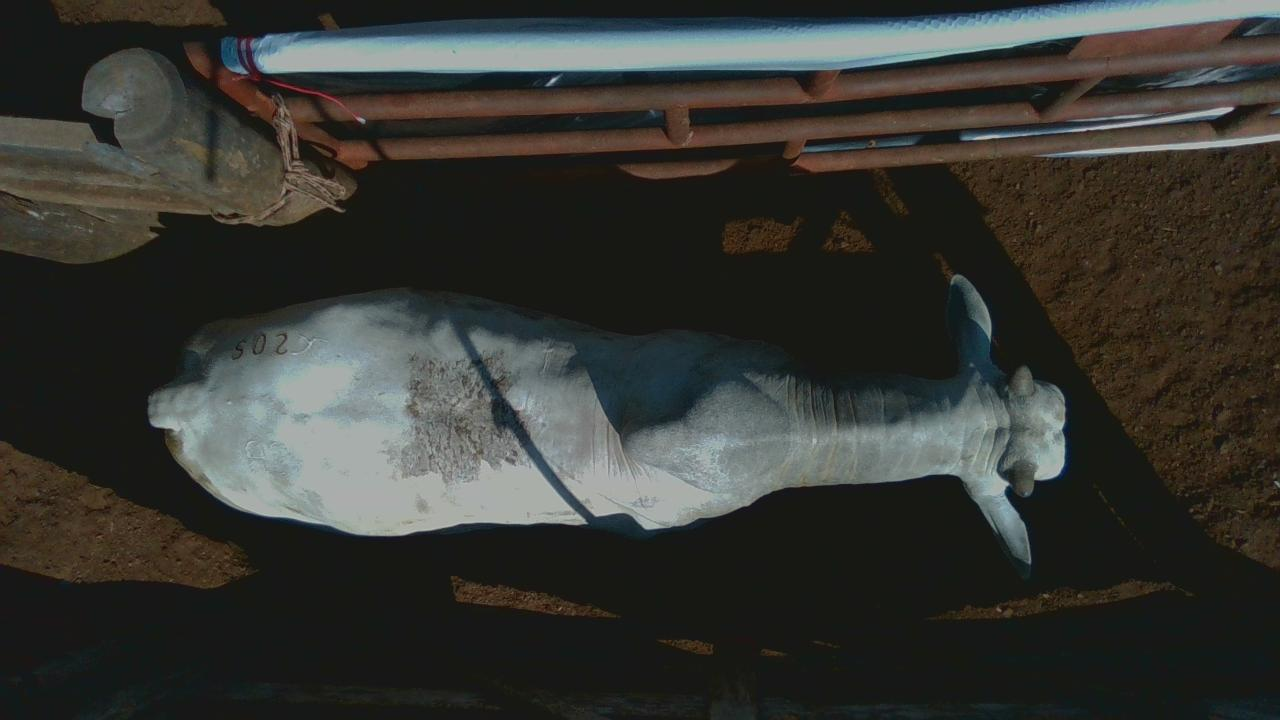cattle: (146, 272, 1068, 580)
